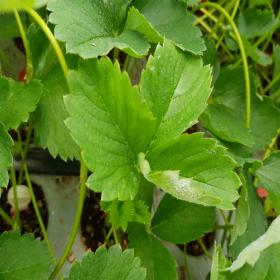Powdery Mildew Leaf: (139, 35, 215, 155), (137, 132, 243, 210), (218, 215, 279, 279)
